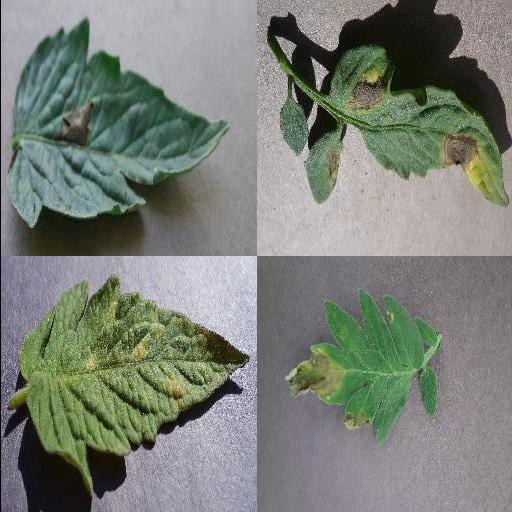Early Blight: (2, 18, 232, 230), (326, 46, 510, 208)
Late Blight: (282, 292, 438, 446)
Leaf Mold: (16, 276, 250, 491)
